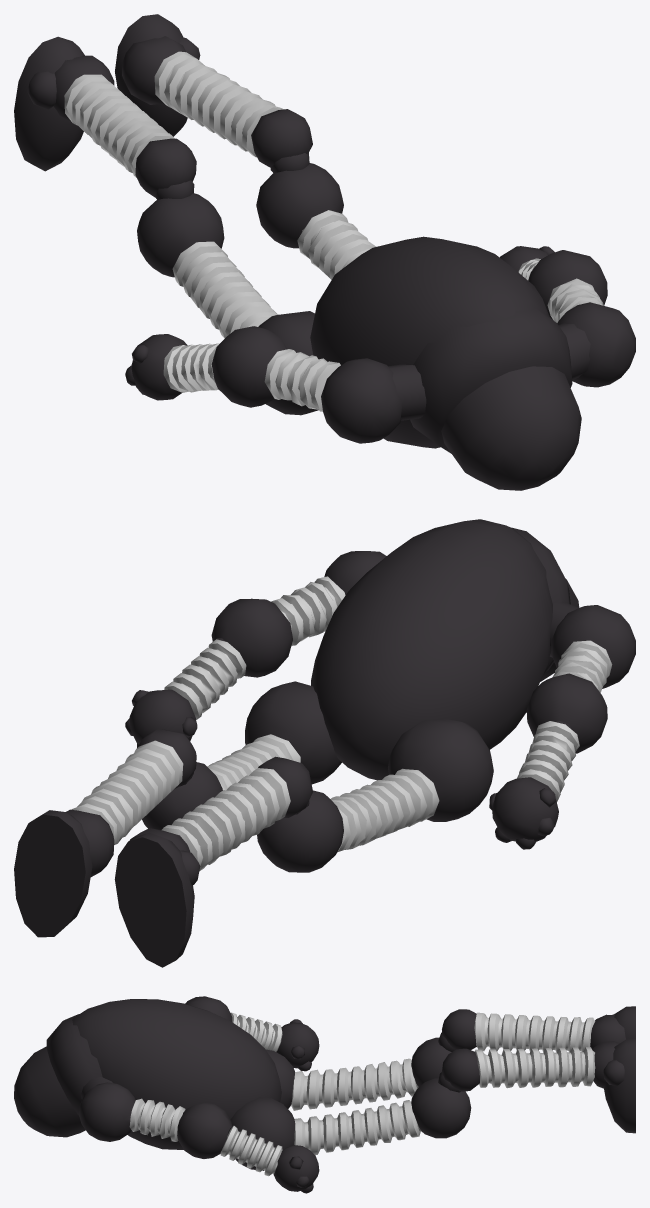
The model's file is nt_2020_robot_01_LOD1.obj.
3 views of the same model, one above another, from view 1: azimuth 30°, elevation 25°; view 2: azimuth 150°, elevation 25°; view 3: azimuth 270°, elevation 25° (orthographic). The views are drawn at different scales.
Visible parts, largest first — view 1: color_black_shine, mtl_nt_2020_plastic_black; view 2: color_black_shine, mtl_nt_2020_plastic_black; view 3: color_black_shine, mtl_nt_2020_plastic_black.
Part boxes in pixels (bbox=[...]): color_black_shine: bbox=[14, 14, 635, 490]; mtl_nt_2020_plastic_black: bbox=[64, 51, 603, 411]; color_black_shine: bbox=[14, 519, 635, 967]; mtl_nt_2020_plastic_black: bbox=[71, 576, 612, 871]; color_black_shine: bbox=[14, 996, 635, 1193]; mtl_nt_2020_plastic_black: bbox=[129, 1012, 595, 1176].
Bounding box in the file's own units: 109 × 48.86 × 198.
